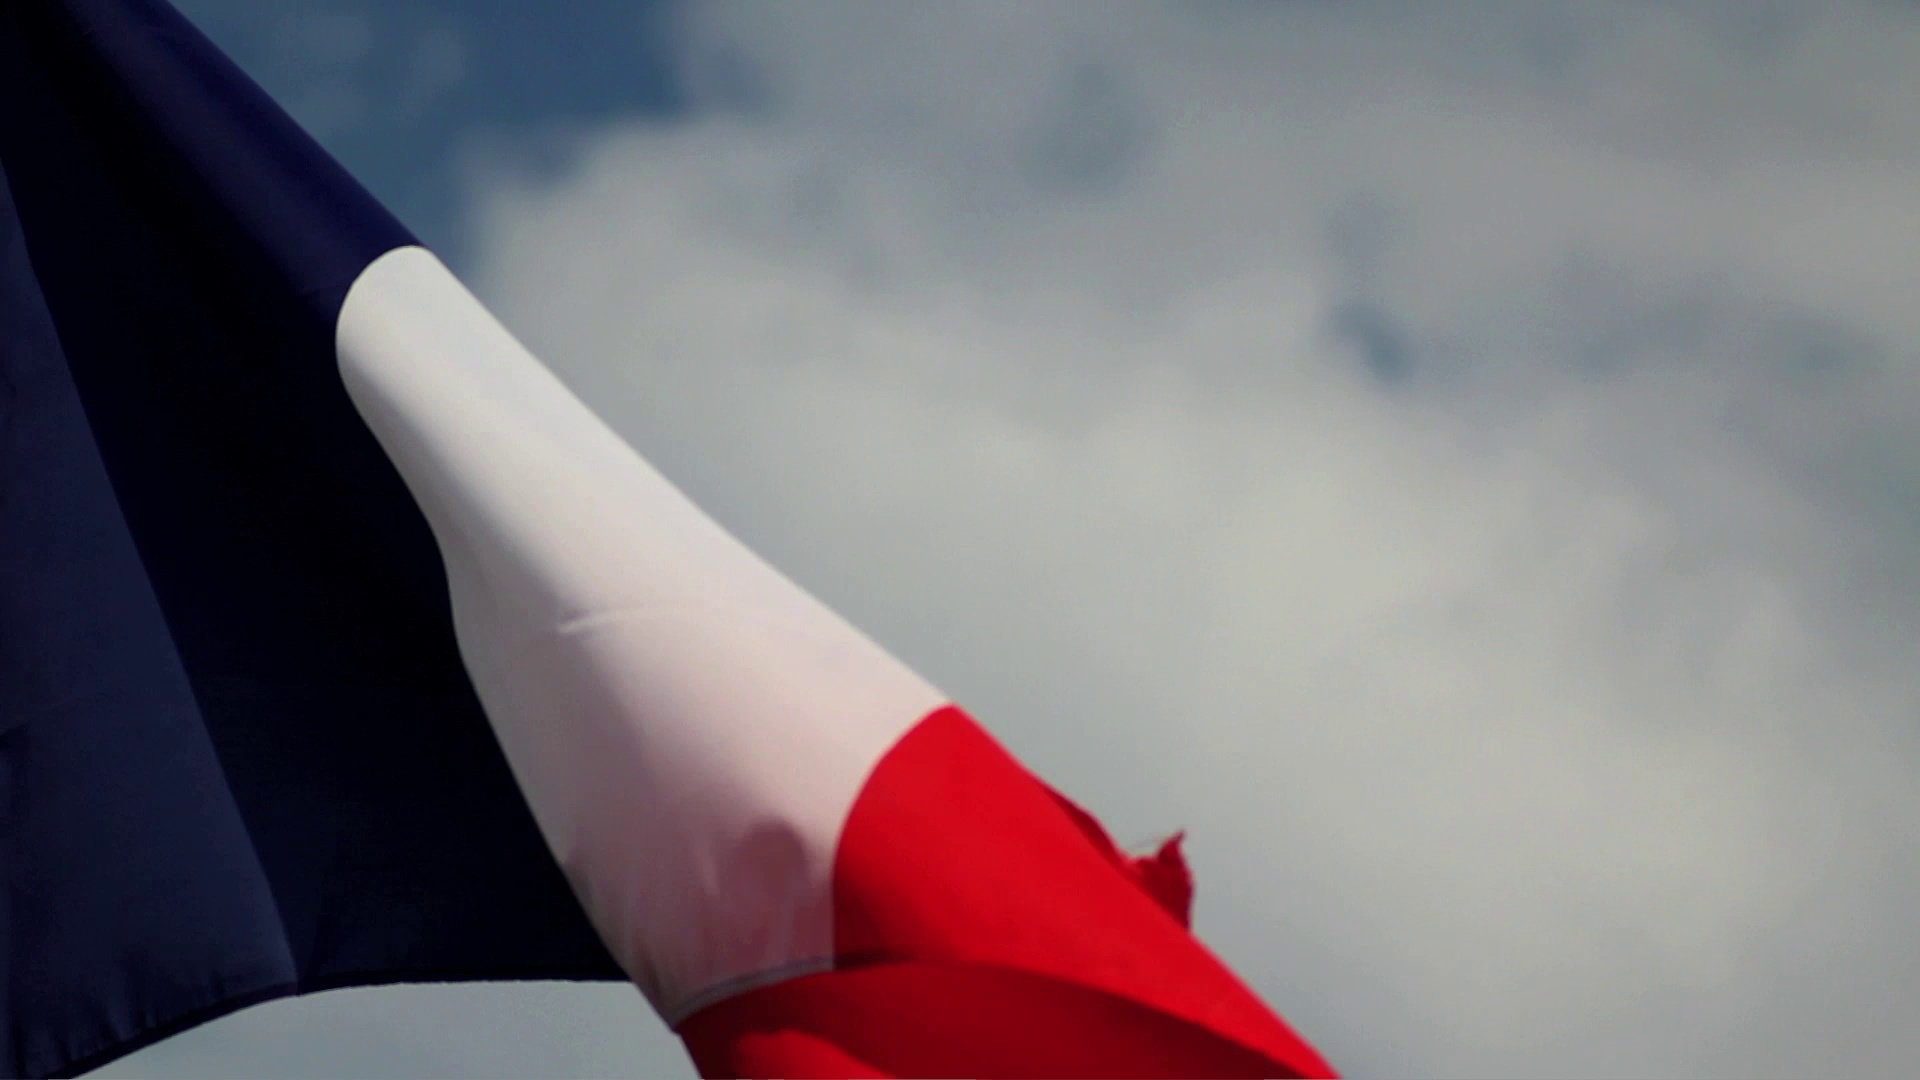French Flag: (1, 1, 1328, 1080)
